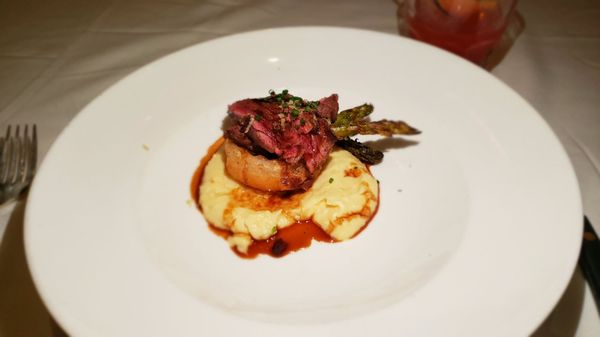burger: (0, 123, 38, 207)
pizza: (395, 0, 524, 71)
